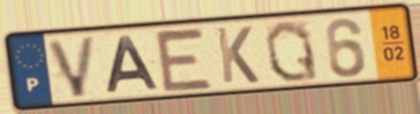6: (323, 15, 367, 80)
A: (104, 34, 163, 95)
E: (151, 26, 217, 94)
K: (213, 24, 262, 86)
Q: (262, 18, 322, 85)
V: (44, 33, 100, 100)
